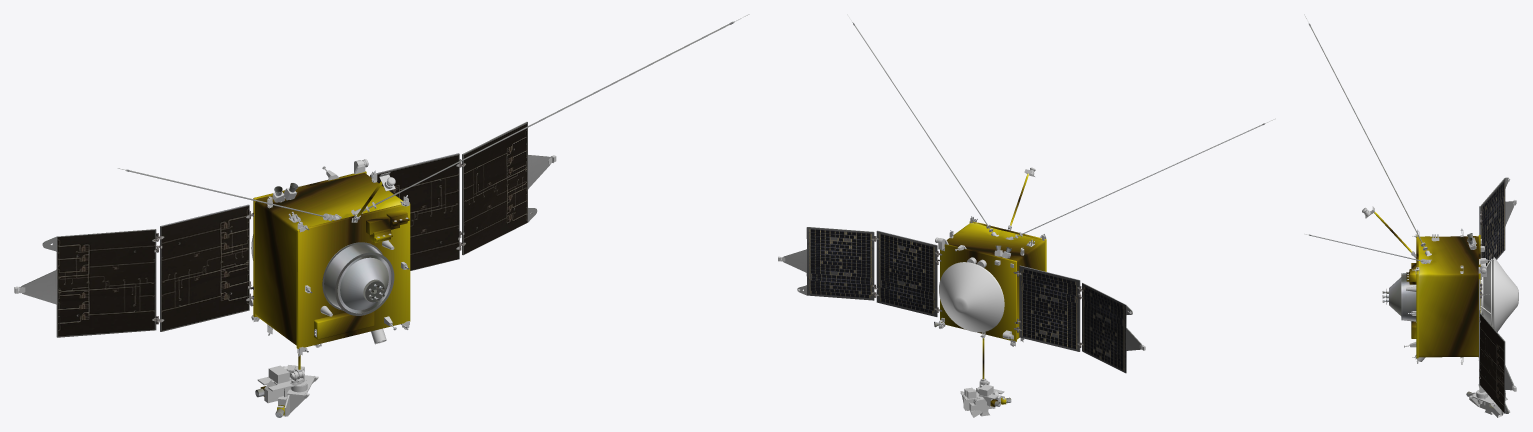
Rendered from maven_lod0.glb.
3 renders of one model, left to right at view 1: azimuth 30°, elevation 25°; view 2: azimuth 150°, elevation 25°; view 3: azimuth 270°, elevation 25°, orthographic. The views are drawn at different scales.
Parts seen in each view (by area): view 1: maven_lod0; view 2: maven_lod0; view 3: maven_lod0.
Boxes of the visible parts, x1,y1,x2,y2 form: maven_lod0: (14,14,749,417); maven_lod0: (778,14,1275,417); maven_lod0: (1304,14,1518,417).
Bounding box in the file's own units: 13.14 × 8.22 × 5.43.
Materials: 10 (3 with a texture image).
